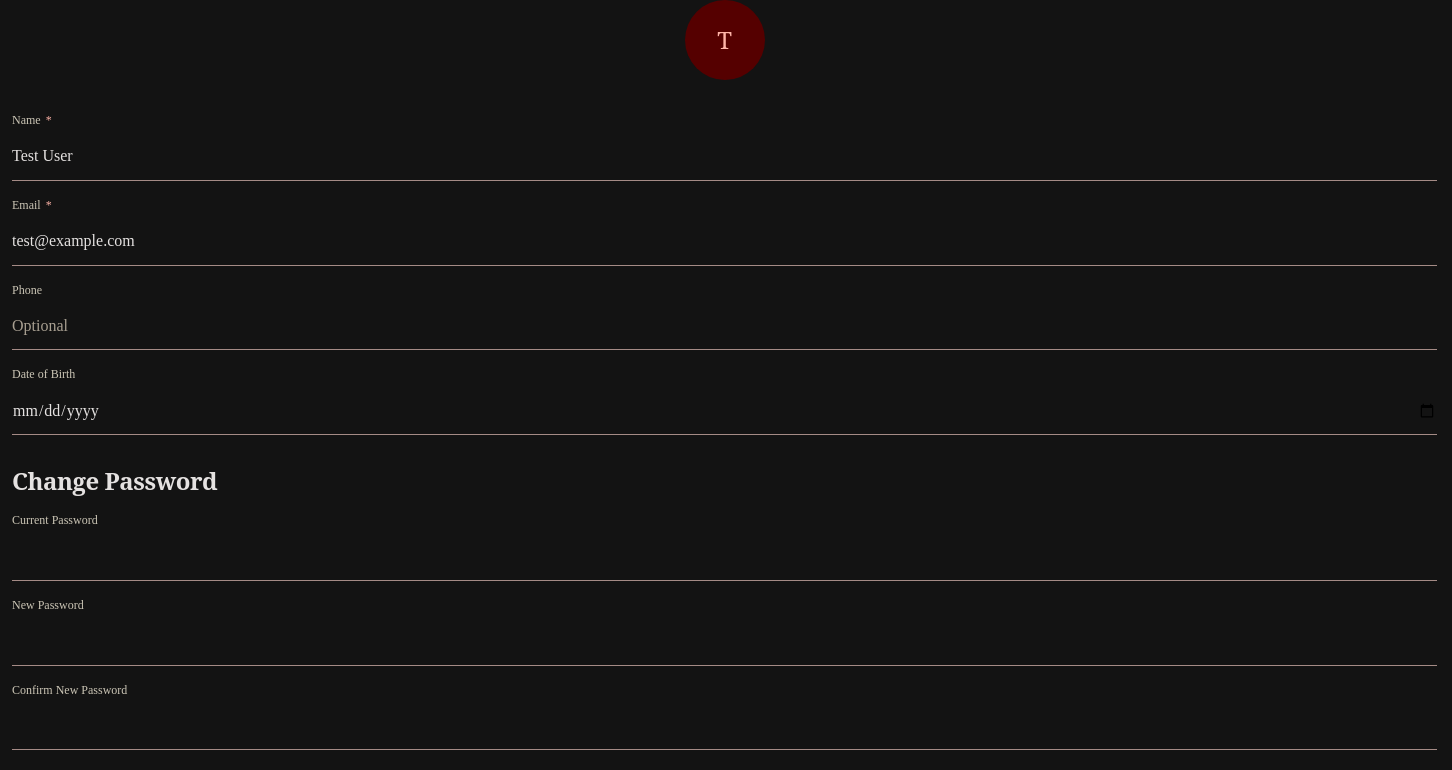
ProfileForm › shows password mismatch error when passwords do not match
Note: currentPassword, newPassword, confirmPassword
Type "currentpass" into the password field labelled "Current Password".
click(724, 557); type("currentpass")  # box [12, 533, 1437, 581]
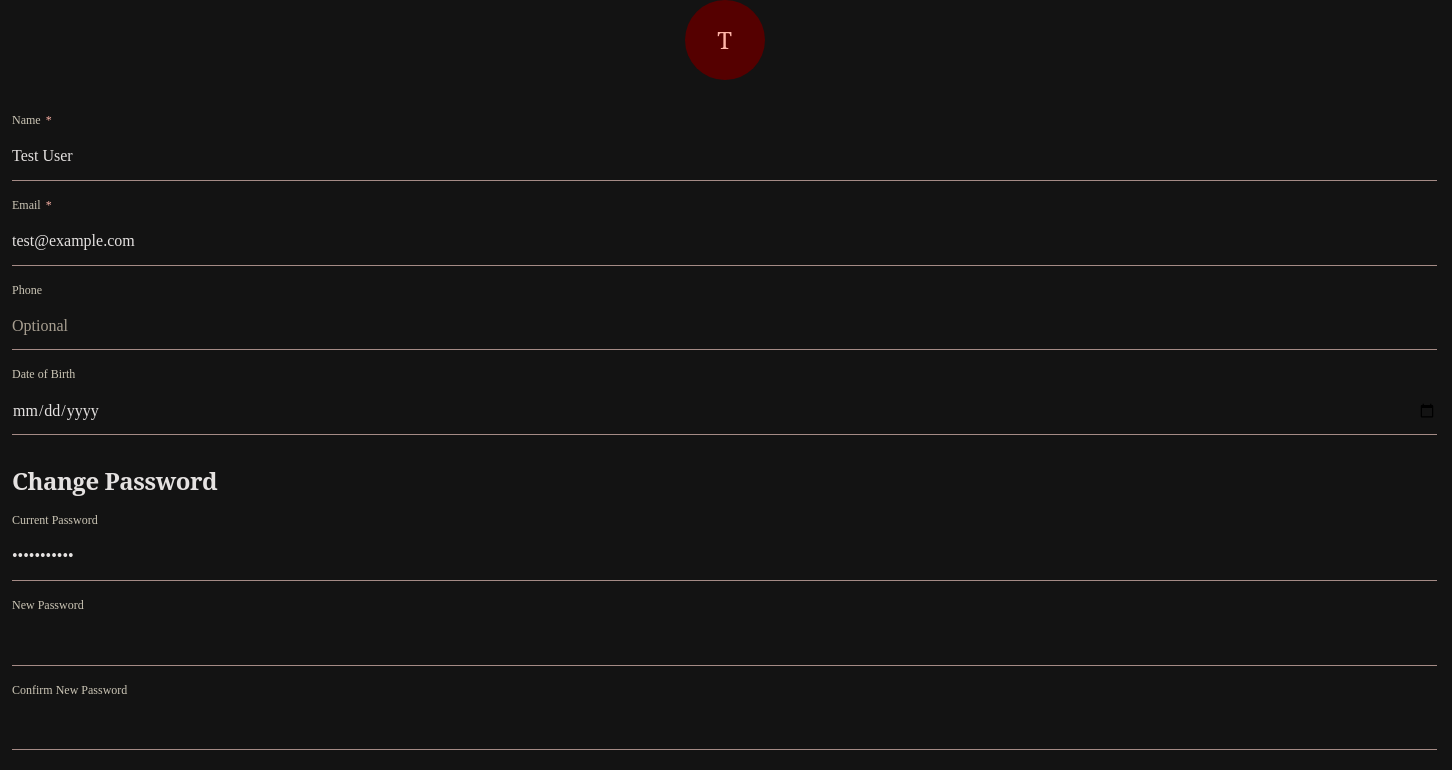
Type "newpass123" into the password field labelled "New Password".
click(724, 642); type("newpass123")  # box [12, 618, 1437, 666]
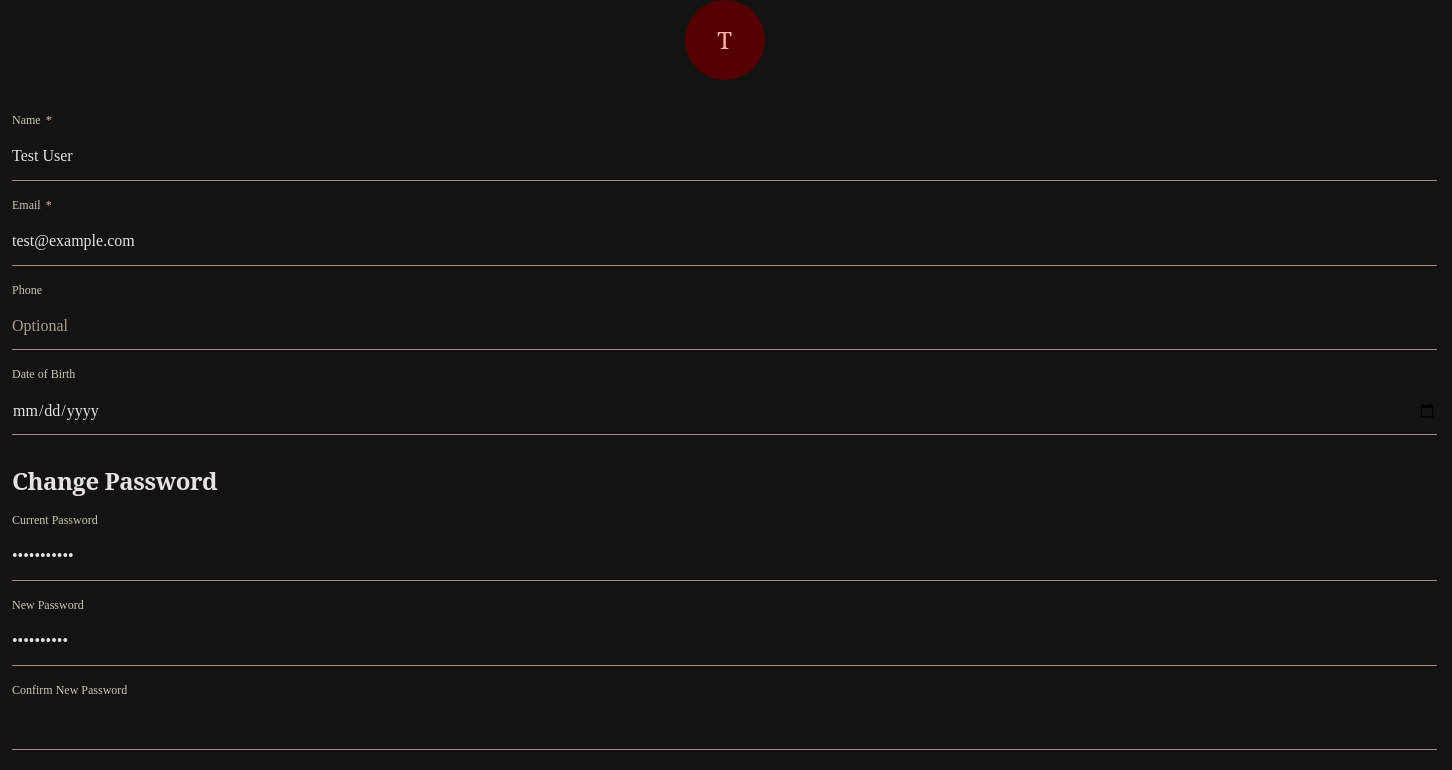
Type "differentpass" into the password field labelled "Confirm New Password".
click(724, 726); type("differentpass")  # box [12, 702, 1437, 750]
(page scrolled)
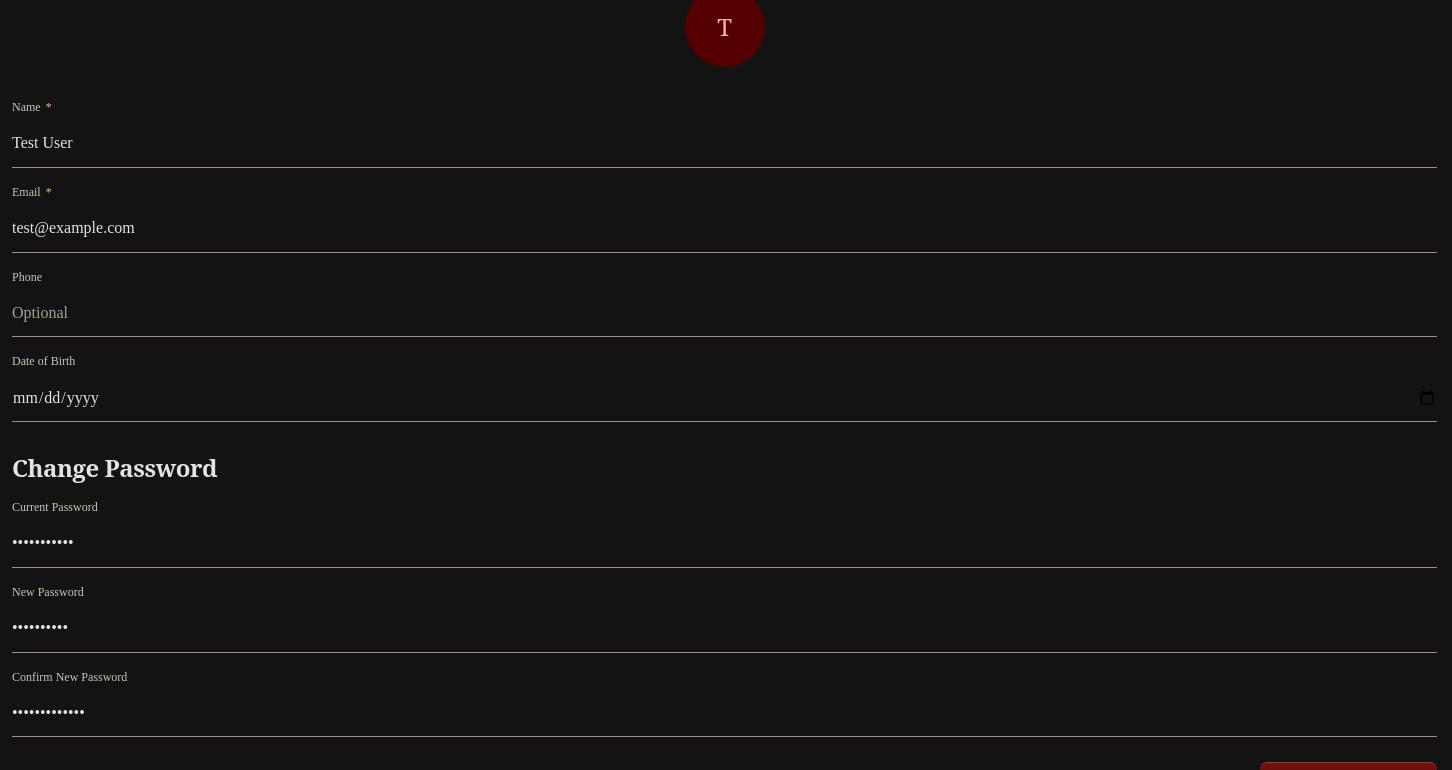
Submit the form
(page scrolled)
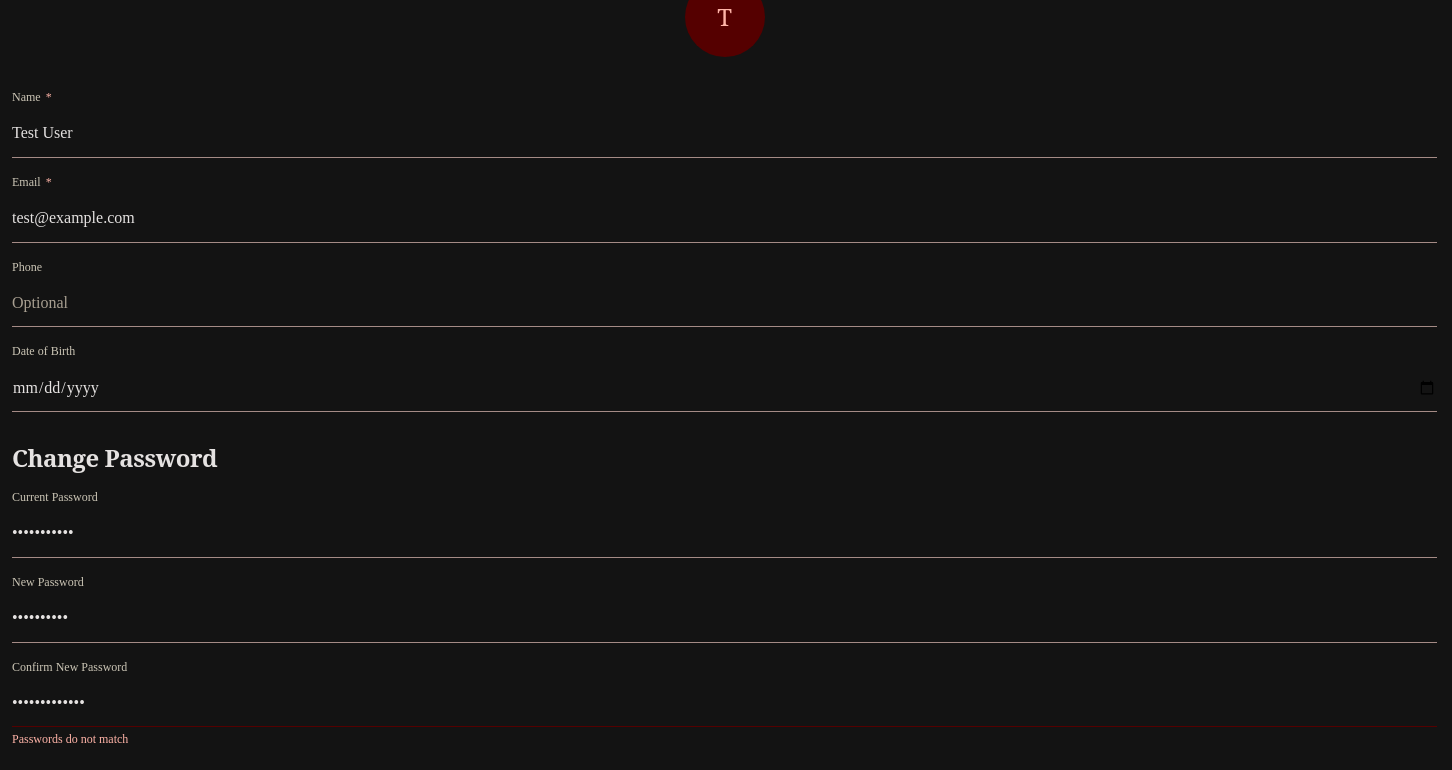
expect the form shows "Passwords do not match": met, box [12, 732, 128, 746]
